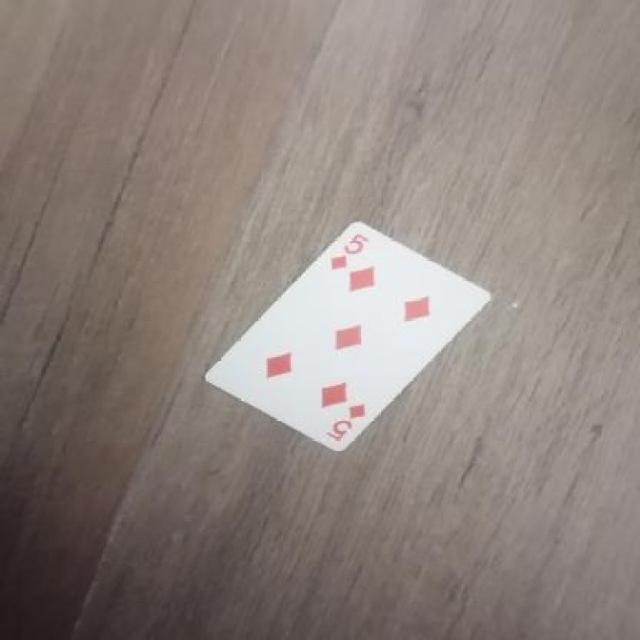5D: (326, 232, 374, 274)
